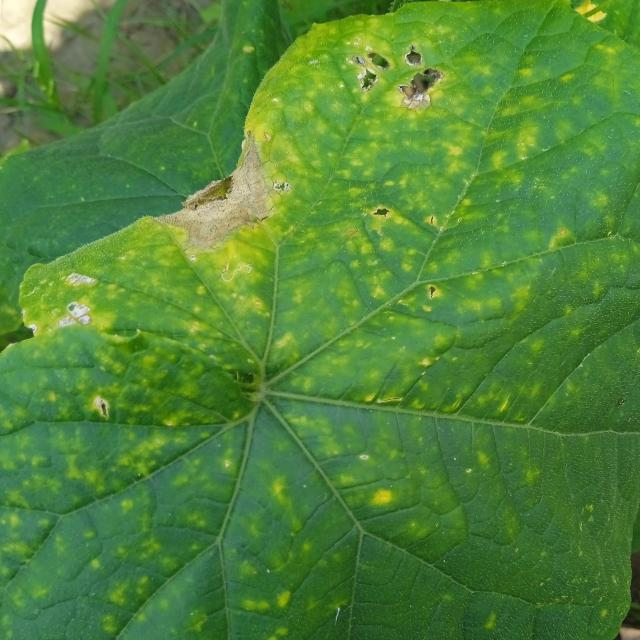cucumber_anthracnose: (30, 16, 453, 525)
